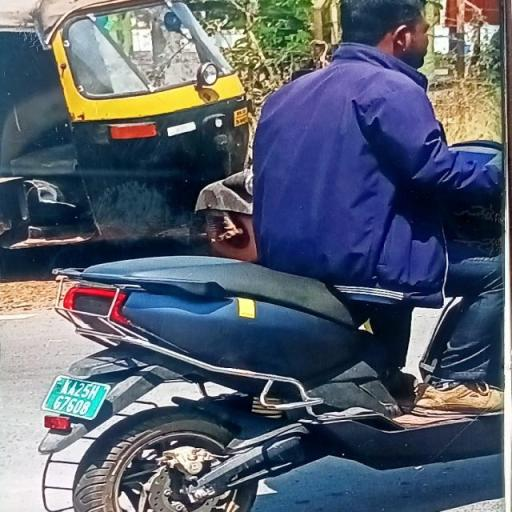bike: (7, 2, 501, 492)
numberplate: (40, 370, 114, 430)
withouthelmet: (340, 3, 430, 55)
